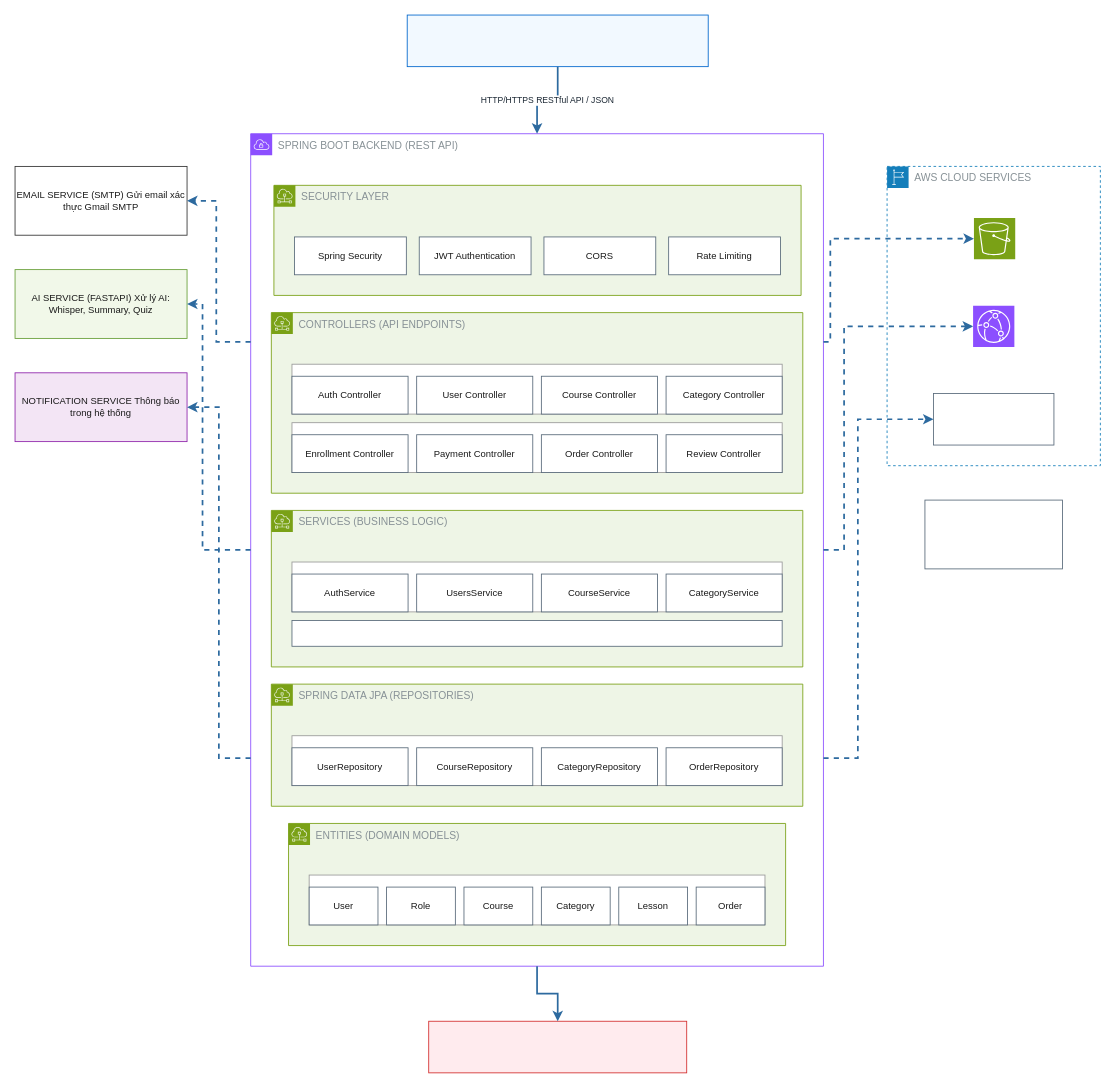
Some shapes in this 1115 by 1088 pixel diagram are drawn without their labels. Here are the shapes that lost their labels. From the top down, the centre of each, then its label:
(557,40): FRONTEND (ReactJS + Vite) Web Browser / Mobile Web
(994,238): AMAZON S3 Upload/Download
(993,326): AMAZON CLOUDFRONT CDN Signed URL
(993,419): AWS MEDIACONVERT HLS Streaming
(993,534): AI SERVICE (FASTAPI) Whisper / Summary / Quiz API độc lập qua HTTP
(536,633): Other Services...
(557,1046): POSTGRESQL DATABASE Primary / Replication / Backup
